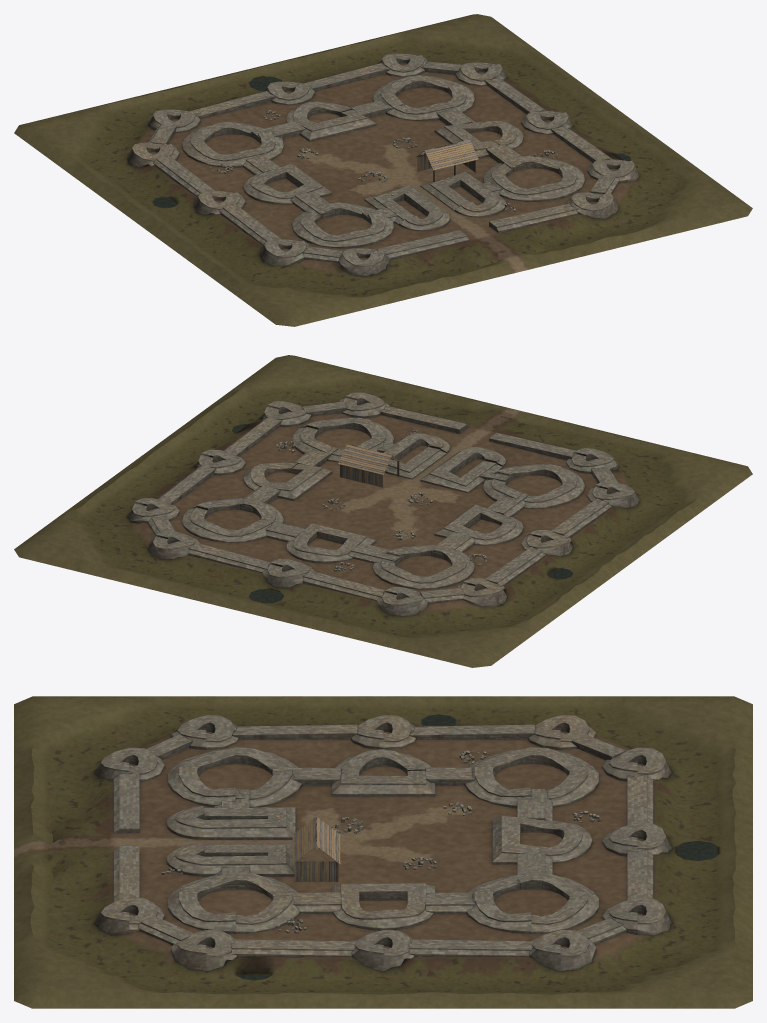
Rendered from concentric_castle_build1.glb.
3 renders of one model, top to bottom at view 1: azimuth 30°, elevation 25°; view 2: azimuth 150°, elevation 25°; view 3: azimuth 270°, elevation 25°, orthographic. The views are drawn at different scales.
Visible parts, largest first — view 1: concentric_castle_build1_LOD0; view 2: concentric_castle_build1_LOD0; view 3: concentric_castle_build1_LOD0.
Boxes of the visible parts, x1,y1,x2,y2 form: concentric_castle_build1_LOD0: [14, 14, 752, 326]; concentric_castle_build1_LOD0: [14, 355, 752, 667]; concentric_castle_build1_LOD0: [14, 696, 752, 1008].
Size of what is drawn, in the model's own units: 80 by 5.54 by 80.
1 material, 1 textured.
